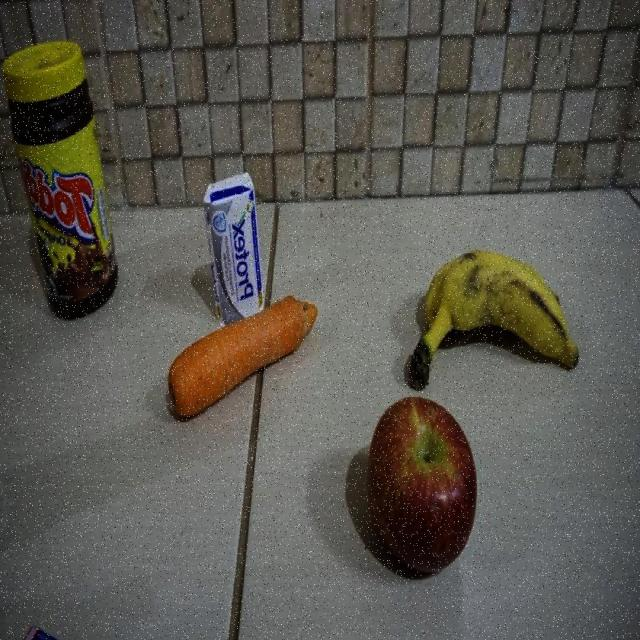Apple: (366, 397, 476, 573)
Banana: (404, 244, 582, 391)
Carrot: (166, 297, 326, 419)
ChocolatePowder: (2, 40, 114, 318)
Soap: (204, 171, 262, 295)
